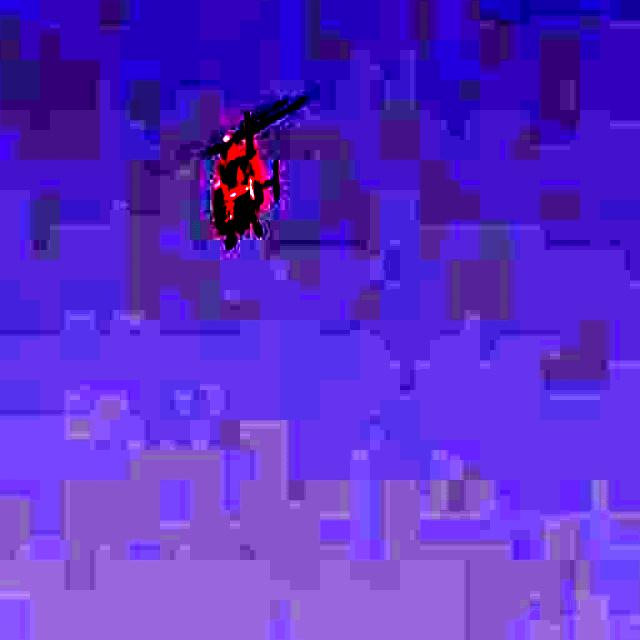drone: (134, 72, 334, 279)
